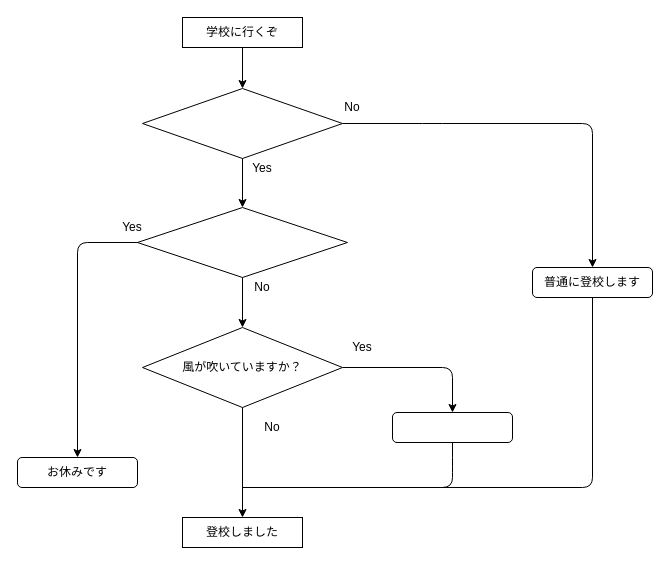
This 670x565 diagram has some shape labels left out. The shapes that lost their labels are listed below. From the top down, each one's centre as x and y in pixels, then its label:
pixel 242 123: カメハメハ大王の 息子ですか？
pixel 242 242: 雨が降っていますか？
pixel 452 427: 遅刻します
